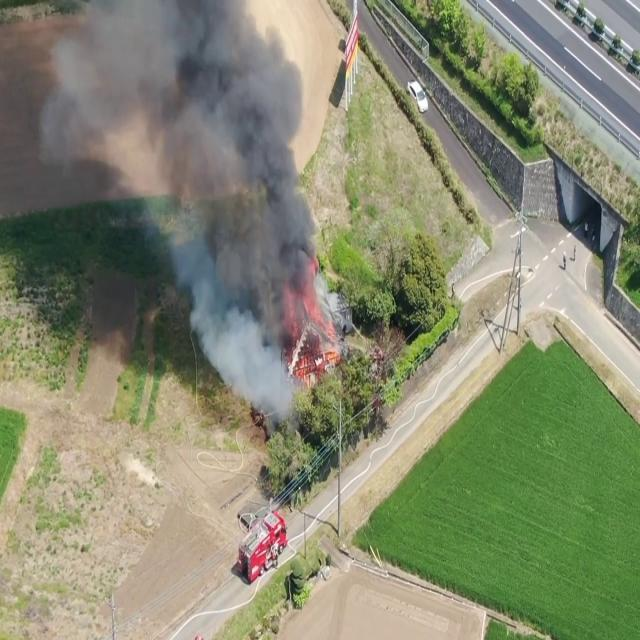Smoke: (26, 0, 336, 412)
